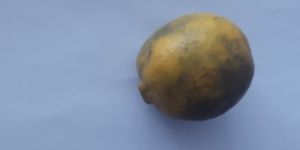BAD: (135, 12, 261, 128)
